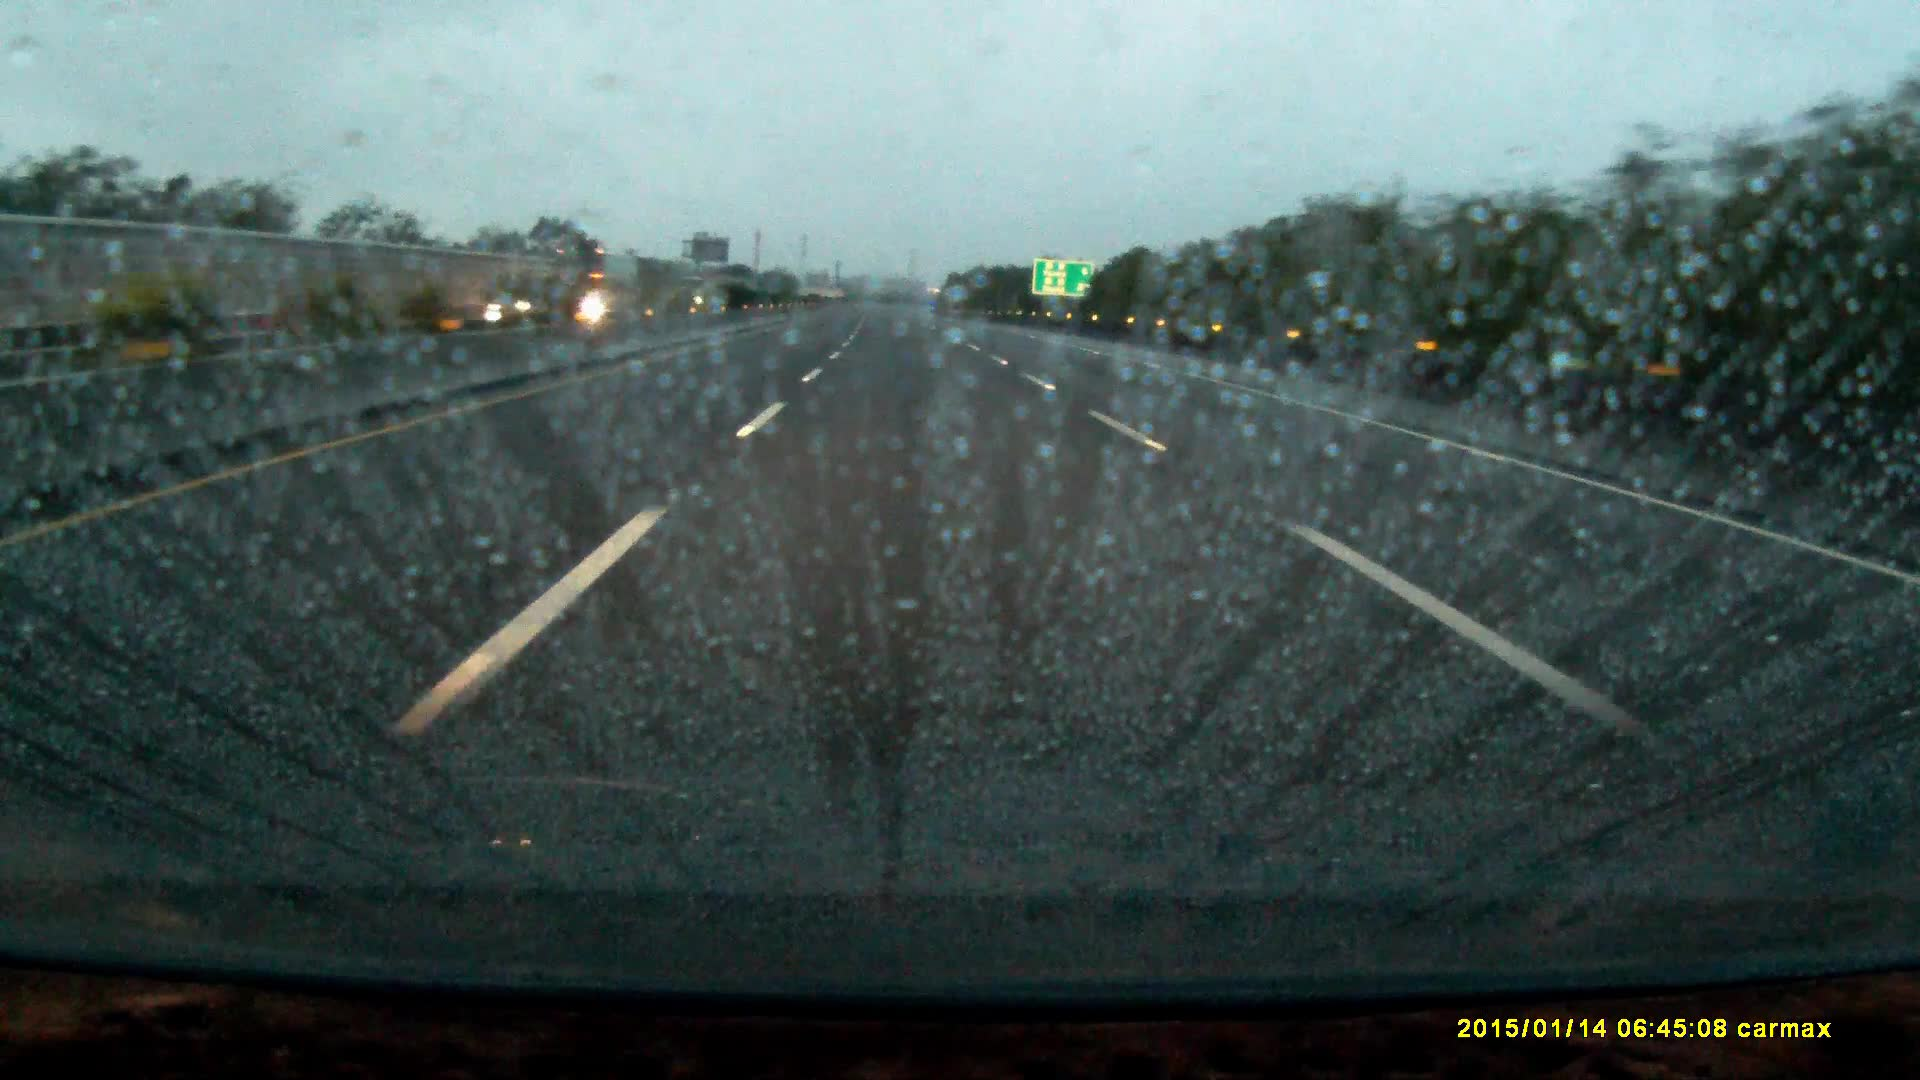vehicle: (558, 248, 644, 318), (483, 285, 553, 324)
